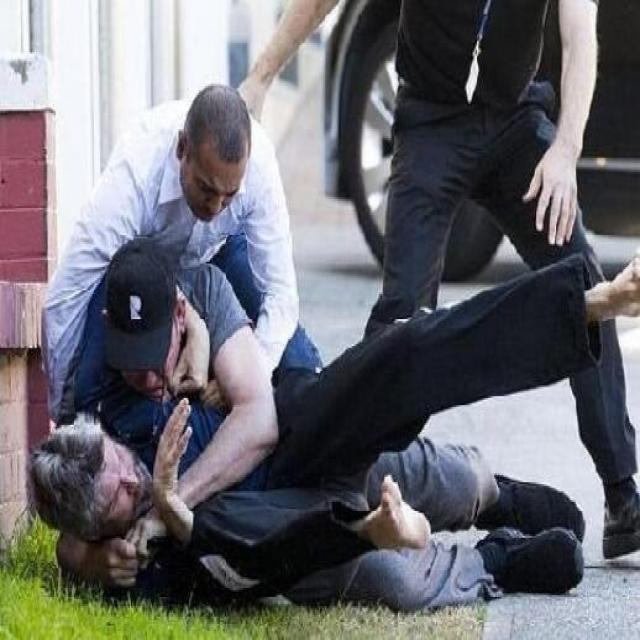fight: (41, 237, 290, 613)
